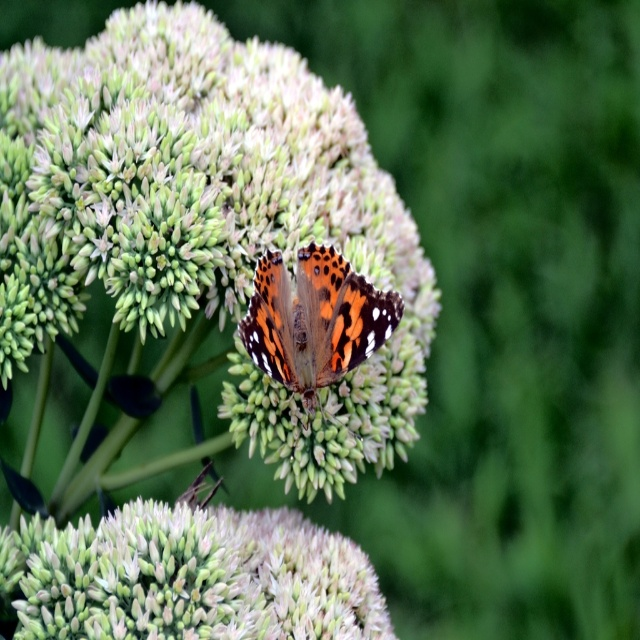Butterfly: (234, 242, 406, 439)
